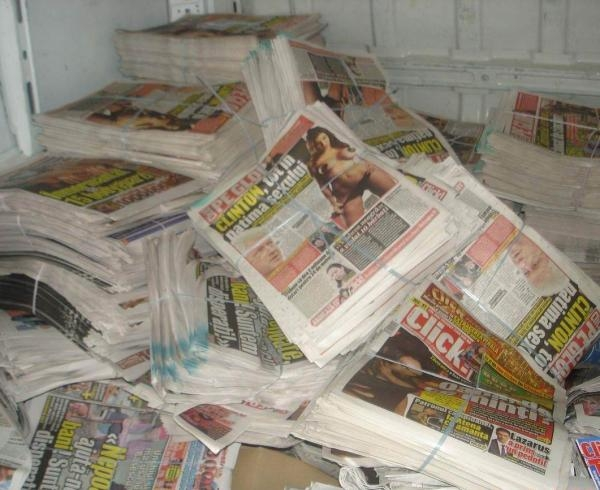paper: (194, 99, 490, 369), (1, 142, 202, 375), (283, 339, 565, 490), (131, 222, 343, 410), (227, 28, 482, 173), (10, 68, 284, 192), (13, 367, 243, 490), (106, 7, 335, 89), (476, 89, 600, 224)
